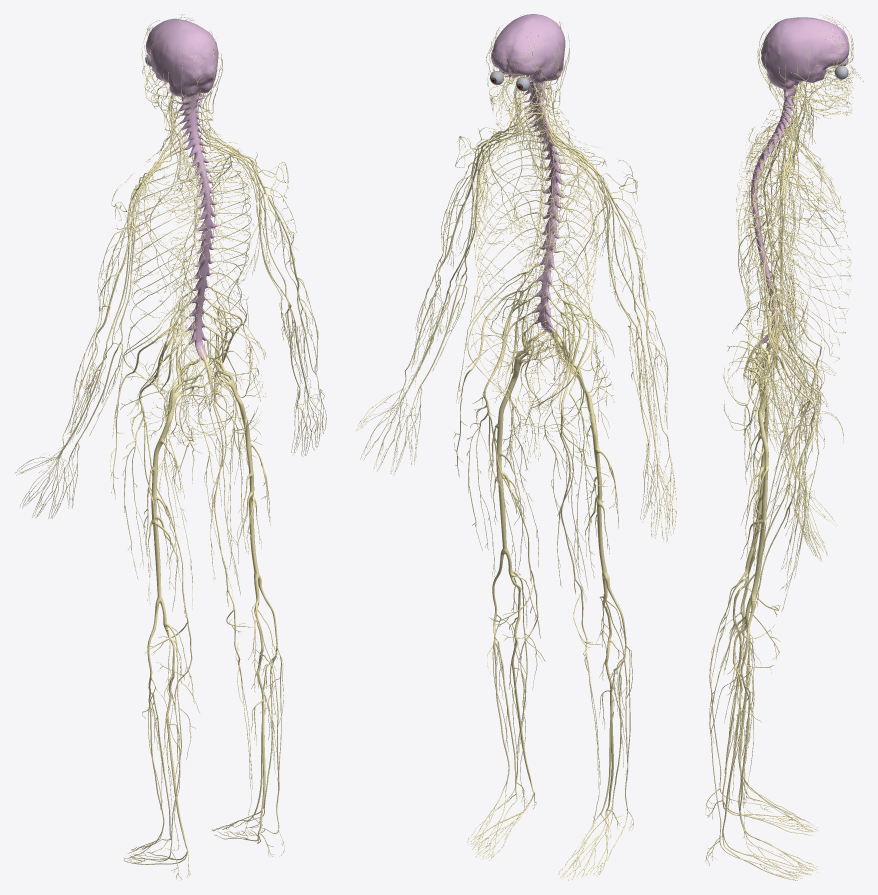
Rendered from nervous.glb.
3 renders of one model, left to right at view 1: azimuth 30°, elevation 25°; view 2: azimuth 150°, elevation 25°; view 3: azimuth 270°, elevation 25°, orthographic. The views are drawn at different scales.
Visible parts, largest first — view 1: Dura mater, head region#~302233, Dura mater, thoracic region#~302205, Sciatic, L#~001983, Tibial, R#~002054, Tibial, L#~001972, Saphenous, R#~002026, Saphenous, L#~001995, Sciatic, R#~002042, Femoral, L#male~001994, Obturator, R#male~002020, Obturator, L#male~001989, Dura mater, cervical region#~302204 (+3 smaller); view 2: Dura mater, head region#~302233, Dura mater, thoracic region#~302205, Sciatic, R#~002042, Saphenous, R#~002026, Tibial, R#~002054, Sciatic, L#~001983, Tibial, L#~001972, Femoral, L#male~001994, Saphenous, L#~001995, Femoral, R#male~002025, Obturator, L#male~001989, Dura mater, lumbar region#male~302202 (+3 smaller); view 3: Dura mater, head region#~302233, Sciatic, R#~002042, Saphenous, R#~002026, Tibial, L#~001972, Saphenous, L#~001995, Tibial, R#~002054, Dura mater, thoracic region#~302205, Thoracodorsal (middle subscapular, long subscapular)(C06-C08 (×2), Femoral, R#male~002025, Obturator, R#male~002020, Median (C06-T01), R#~001766, Sciatic, L#~001983 (+13 smaller).
Boxes of the visible parts, x1=… form: Dura mater, head region#~302233: x1=145, y1=18, x2=218, y2=97; Dura mater, thoracic region#~302205: x1=189, y1=145, x2=218, y2=279; Sciatic, L#~001983: x1=150, y1=368, x2=191, y2=603; Tibial, R#~002054: x1=248, y1=577, x2=278, y2=835; Tibial, L#~001972: x1=160, y1=600, x2=194, y2=852; Saphenous, R#~002026: x1=210, y1=402, x2=252, y2=834; Saphenous, L#~001995: x1=144, y1=419, x2=199, y2=850; Sciatic, R#~002042: x1=213, y1=361, x2=260, y2=579; Femoral, L#male~001994: x1=122, y1=323, x2=177, y2=603; Obturator, R#male~002020: x1=194, y1=312, x2=240, y2=598; Obturator, L#male~001989: x1=157, y1=322, x2=192, y2=611; Dura mater, cervical region#~302204: x1=176, y1=94, x2=204, y2=149; Dura mater, head region#~302233: x1=491, y1=14, x2=565, y2=83; Dura mater, thoracic region#~302205: x1=535, y1=126, x2=564, y2=252; Sciatic, R#~002042: x1=495, y1=341, x2=537, y2=554; Saphenous, R#~002026: x1=488, y1=414, x2=545, y2=839; Tibial, R#~002054: x1=506, y1=550, x2=540, y2=795; Sciatic, L#~001983: x1=560, y1=347, x2=609, y2=579; Tibial, L#~001972: x1=596, y1=577, x2=626, y2=813; Femoral, L#male~001994: x1=555, y1=304, x2=594, y2=601; Saphenous, L#~001995: x1=557, y1=433, x2=600, y2=855; Femoral, R#male~002025: x1=466, y1=293, x2=522, y2=580; Obturator, L#male~001989: x1=540, y1=304, x2=588, y2=590; Dura mater, lumbar region#male~302202: x1=532, y1=251, x2=554, y2=328; Dura mater, head region#~302233: x1=761, y1=17, x2=849, y2=89; Sciatic, R#~002042: x1=750, y1=358, x2=768, y2=600; Saphenous, R#~002026: x1=727, y1=433, x2=810, y2=856; Tibial, L#~001972: x1=716, y1=549, x2=753, y2=803; Saphenous, L#~001995: x1=727, y1=397, x2=812, y2=824; Tibial, R#~002054: x1=717, y1=597, x2=751, y2=838; Dura mater, thoracic region#~302205: x1=751, y1=132, x2=778, y2=265; Thoracodorsal (middle subscapular, long subscapular)(C06-C08 (×2): x1=738, y1=147, x2=781, y2=334; Femoral, R#male~002025: x1=768, y1=317, x2=816, y2=612; Obturator, R#male~002020: x1=744, y1=317, x2=806, y2=606; Median (C06-T01), R#~001766: x1=771, y1=209, x2=803, y2=487; Sciatic, L#~001983: x1=750, y1=345, x2=768, y2=551.
Bounding box in the file's own units: 1.93 × 4.96 × 0.8568.
9 materials, 9 textured.
